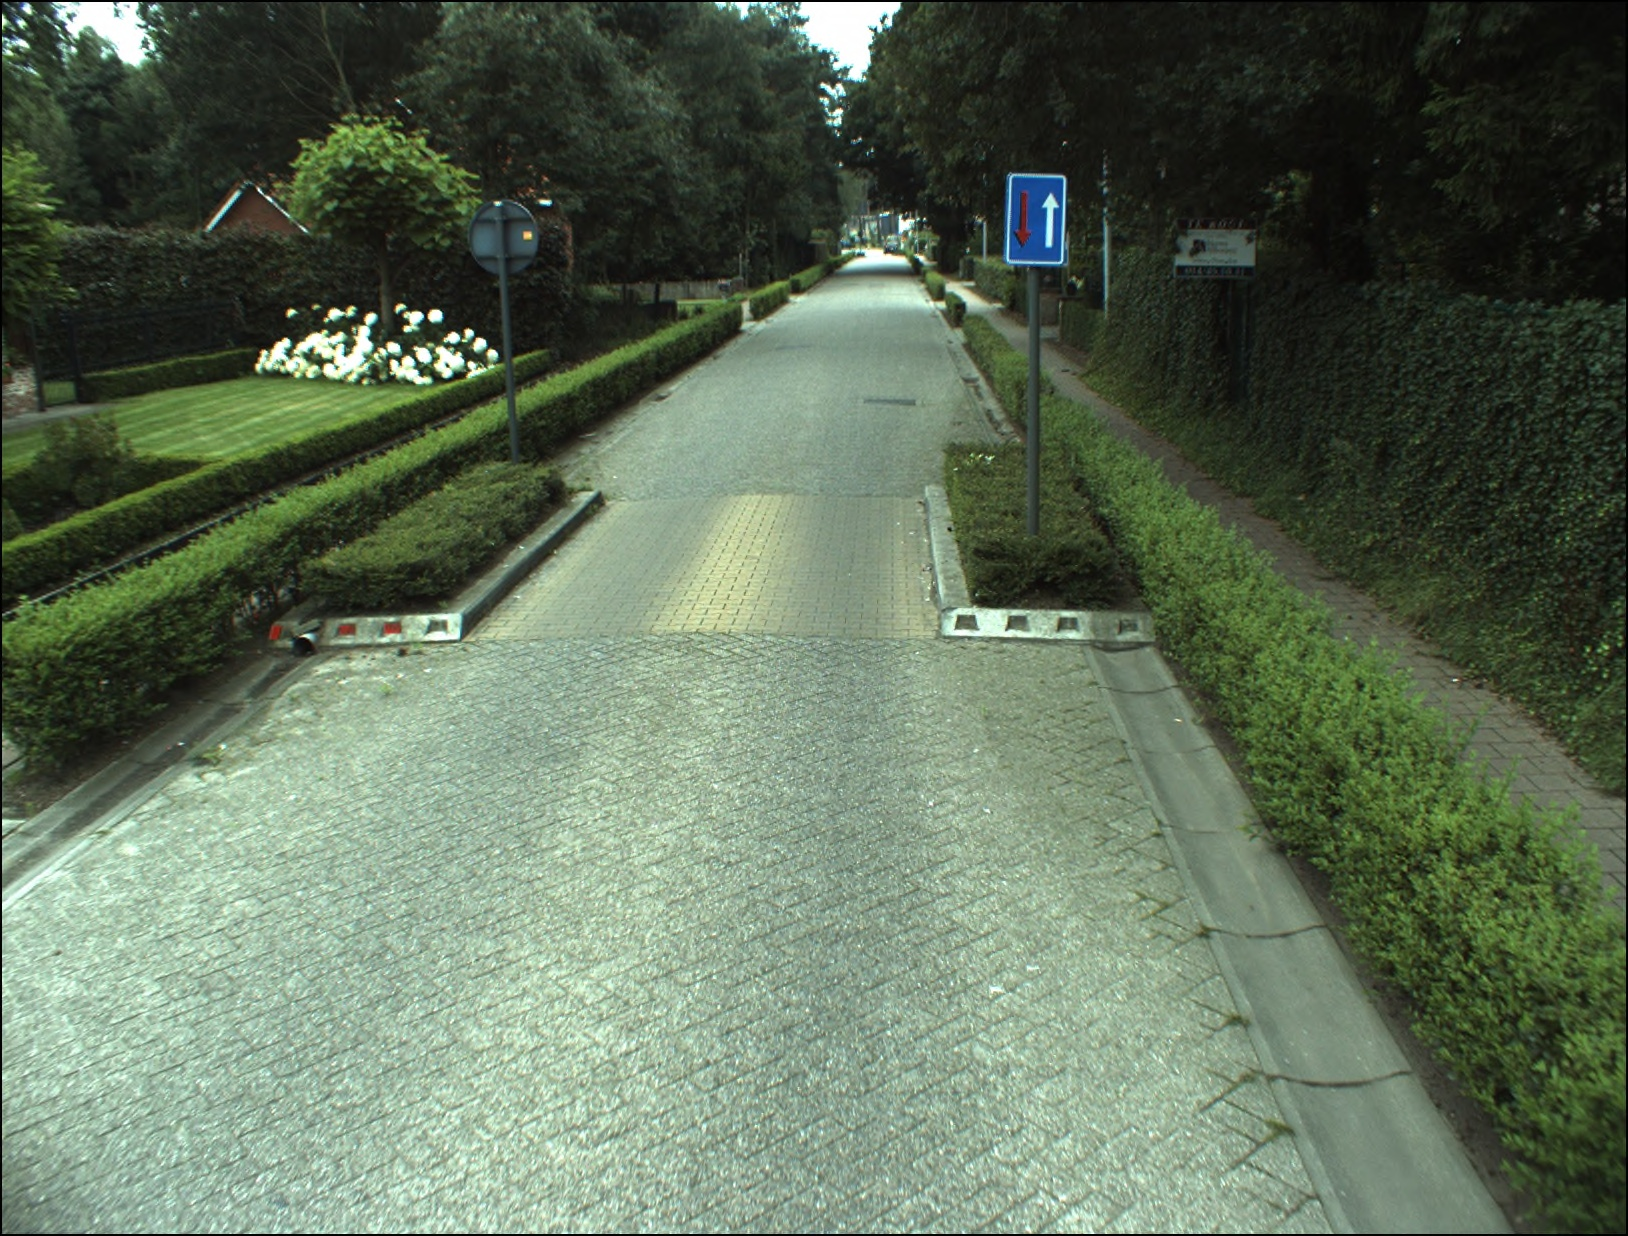roadnarrow1: (1006, 171, 1068, 265)
